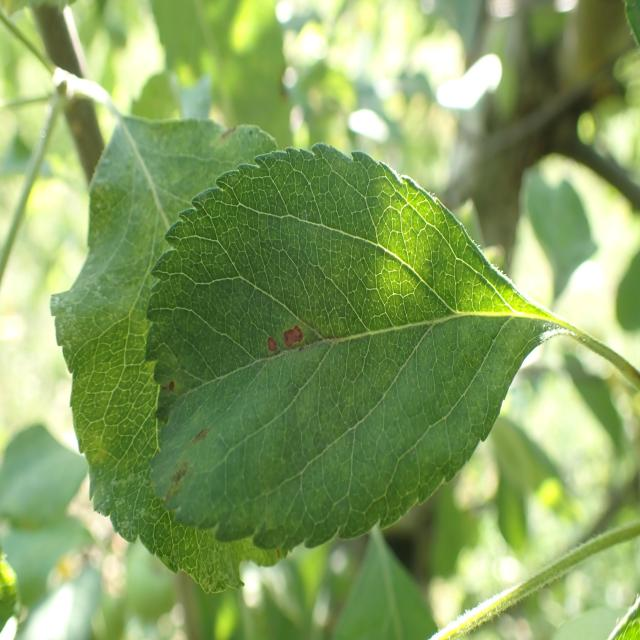scab: (139, 238, 361, 504)
